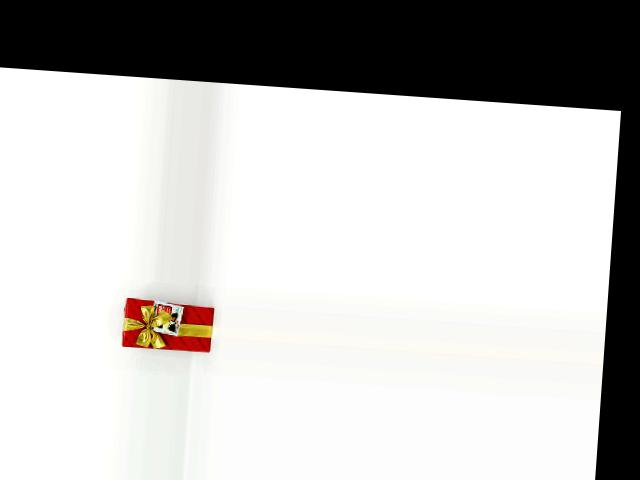chocolate: (118, 298, 213, 356)
